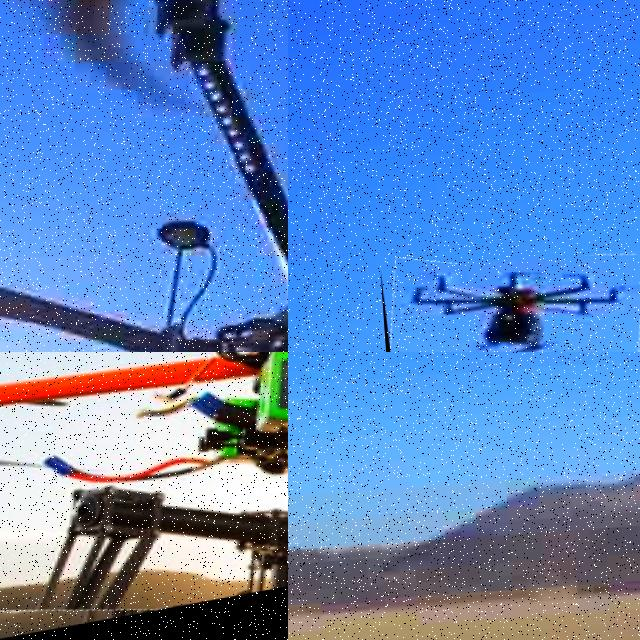0: (0, 0, 288, 352), (380, 251, 640, 352)
drone: (0, 352, 288, 640)
